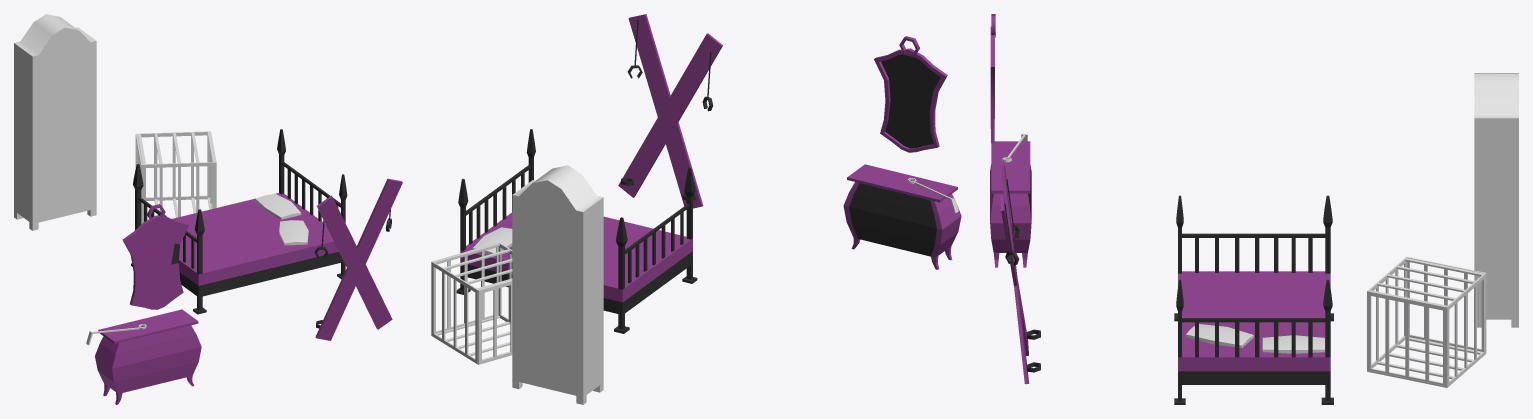
File: meubles.FBX
The picture shows the model from 3 angles, left to right: view 1: azimuth 30°, elevation 25°; view 2: azimuth 150°, elevation 25°; view 3: azimuth 270°, elevation 25°; orthographic projection. The views are drawn at different scales.
Parts seen in each view (by area): view 1: Box017, lit sur sm, commode, croix avec menottes, miroir, cage, oreiller005, oreiller006; view 2: Box017, lit sur sm, commode, croix avec menottes, cage, miroir, oreiller005; view 3: lit sur sm, Box017, cage, commode, croix avec menottes, oreiller005, oreiller006, miroir.
Boxes of the visible parts, box(x1,y1,x2,y2) form: Box017: box(14, 14, 96, 230); lit sur sm: box(131, 129, 347, 314); commode: box(95, 309, 201, 404); croix avec menottes: box(314, 178, 402, 340); miroir: box(122, 204, 189, 309); cage: box(135, 131, 216, 224); oreiller005: box(255, 193, 301, 219); oreiller006: box(279, 220, 308, 245); Box017: box(512, 165, 603, 404); lit sur sm: box(456, 129, 697, 333); commode: box(843, 164, 961, 269); croix avec menottes: box(618, 14, 722, 208); cage: box(431, 242, 512, 364); miroir: box(874, 36, 947, 152); oreiller005: box(472, 227, 512, 254); lit sur sm: box(1174, 195, 1333, 404); Box017: box(1474, 73, 1518, 327); cage: box(1367, 256, 1486, 387); commode: box(990, 141, 1031, 267); croix avec menottes: box(1000, 166, 1040, 384); oreiller005: box(1262, 335, 1324, 353); oreiller006: box(1186, 324, 1253, 347); miroir: box(990, 14, 995, 143).
Bounding box in the file's own units: 507 × 294 × 595.
